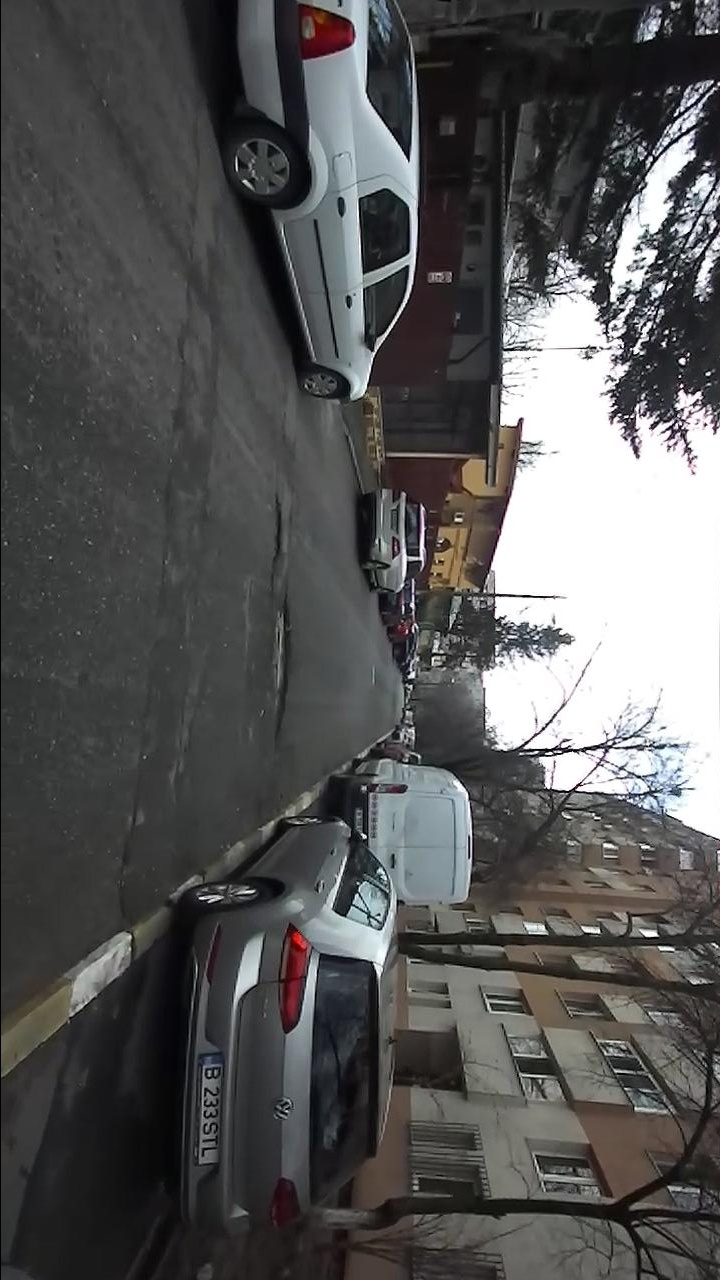pothole: (265, 586, 297, 746), (111, 801, 143, 914), (270, 491, 287, 575)
